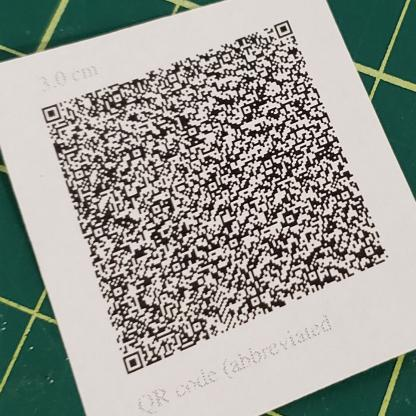qr: (35, 17, 393, 380)
